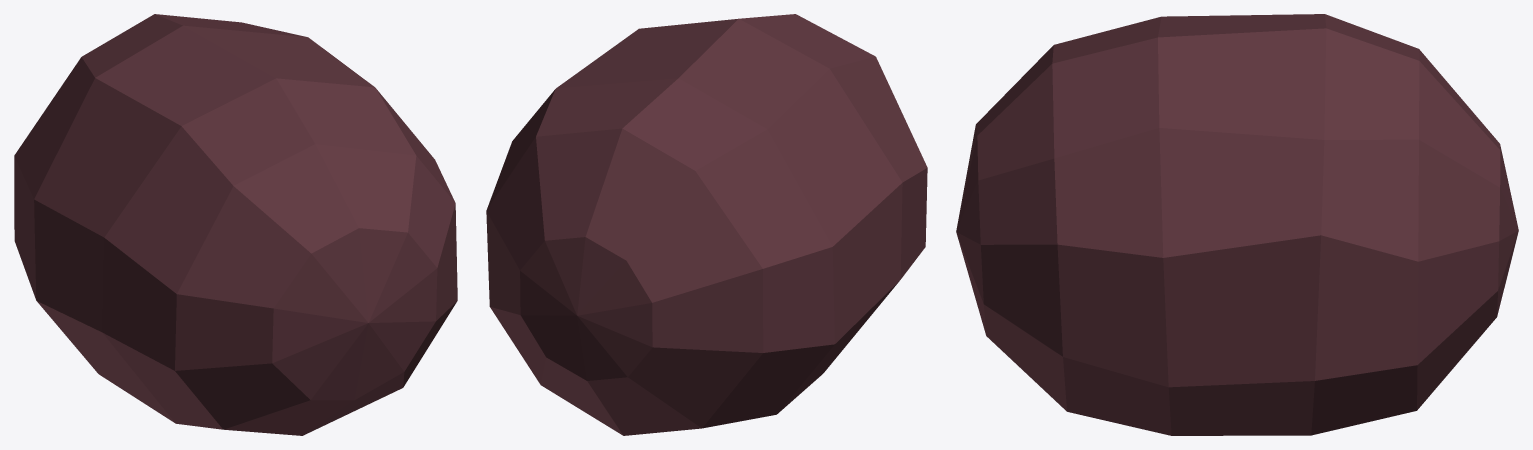
Rendered from food-melon.glb.
3 views of the same model, side by side, from view 1: azimuth 30°, elevation 25°; view 2: azimuth 150°, elevation 25°; view 3: azimuth 270°, elevation 25° (orthographic). The views are drawn at different scales.
Visible parts, largest first — view 1: melon; view 2: melon; view 3: melon.
Boxes of the visible parts, left/top/right/bottom form: melon: left=14, top=14, right=457, bottom=435; melon: left=486, top=14, right=927, bottom=435; melon: left=956, top=14, right=1518, bottom=435.
Bounding box in the file's own units: 0.3731 × 0.3815 × 0.5001.
